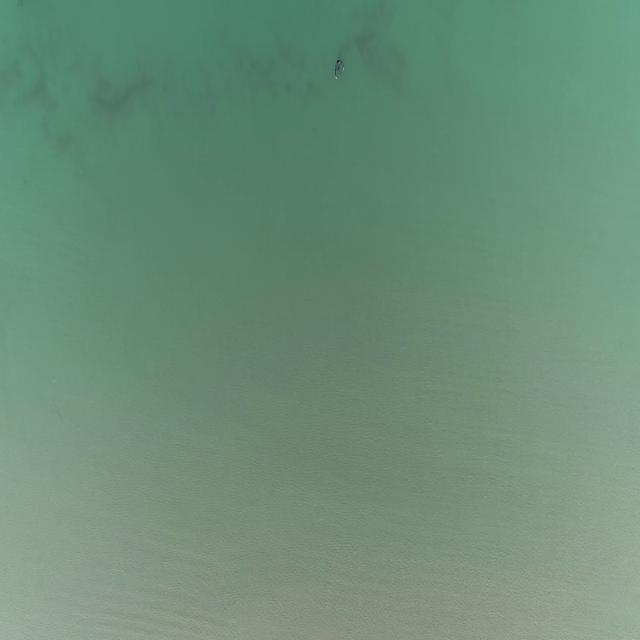person: (333, 59, 347, 79)
